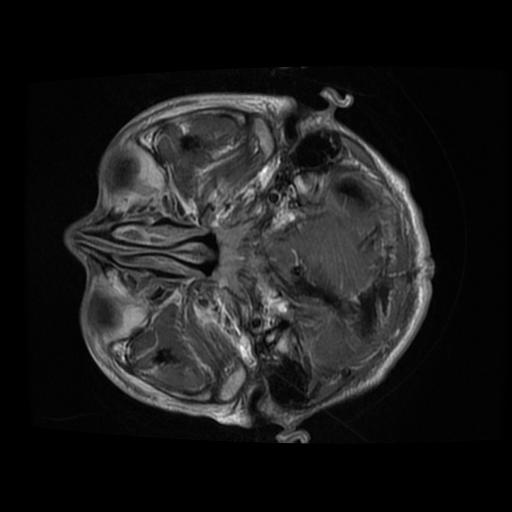glioma: (286, 264, 343, 310)
